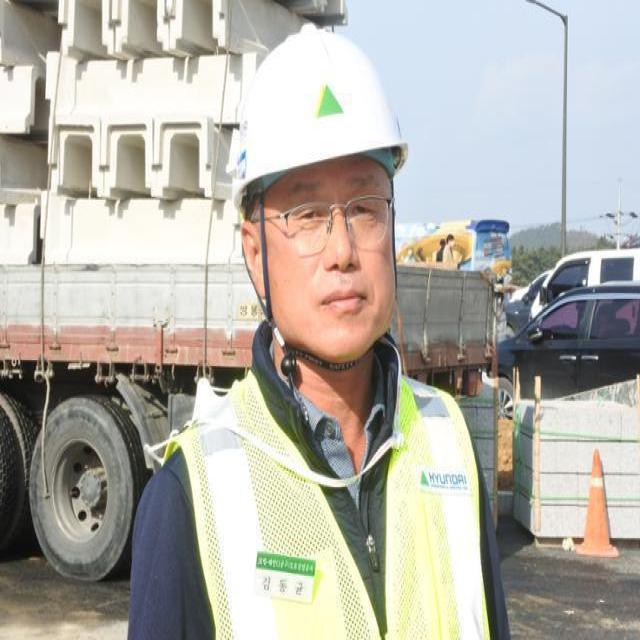helmet: (232, 24, 408, 192)
